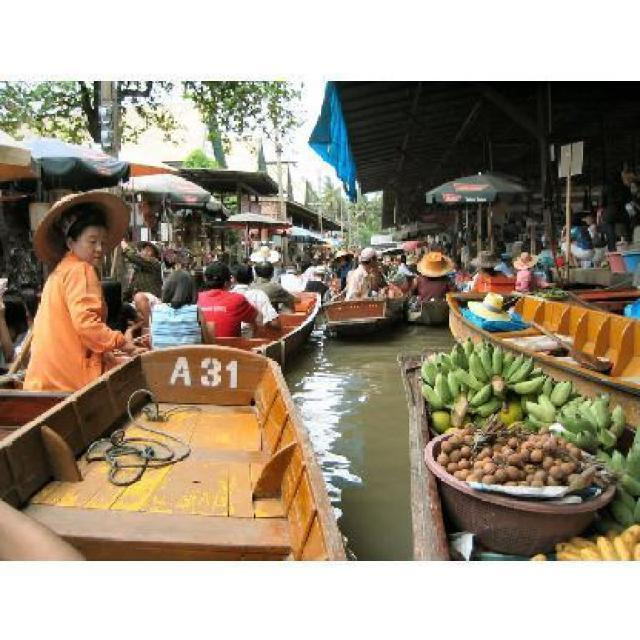Banana: (416, 336, 638, 559)
